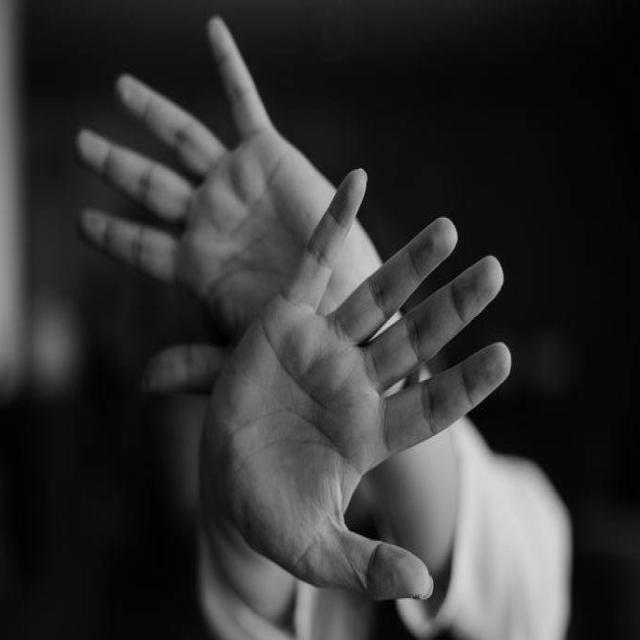stop: (201, 162, 516, 608)
